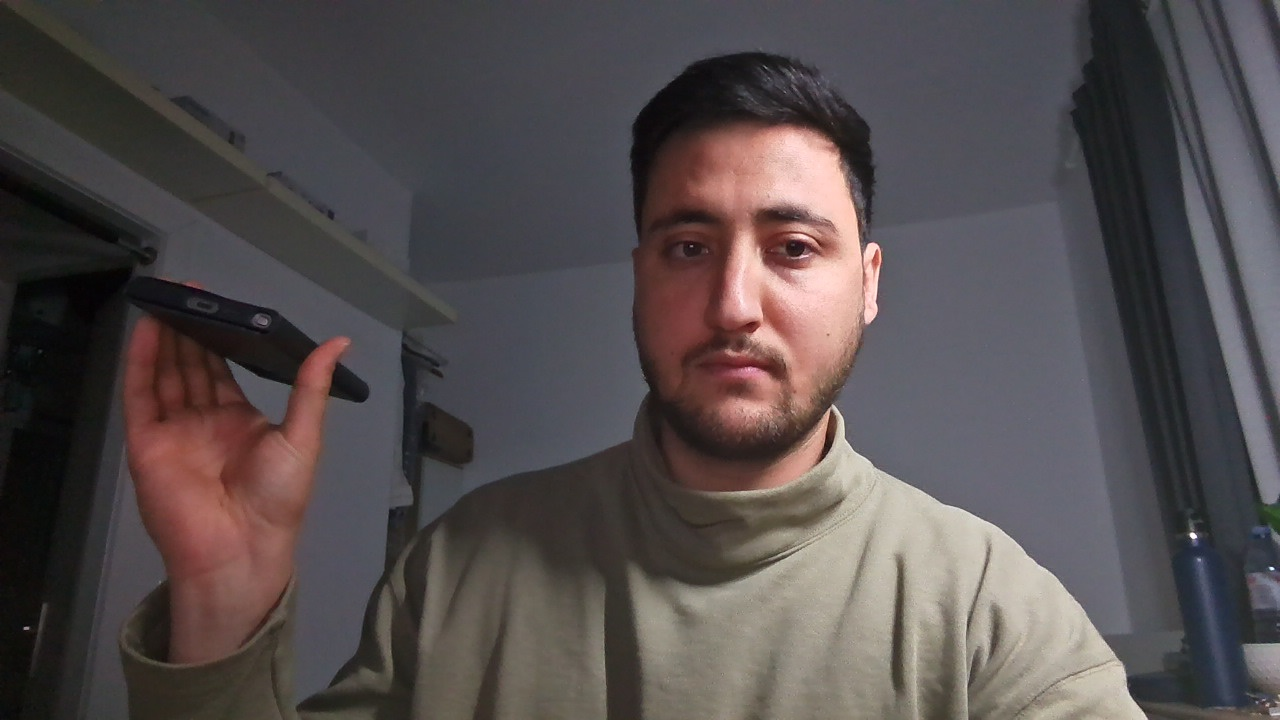Handy: (105, 260, 397, 413), (1145, 501, 1274, 717)
me: (591, 60, 897, 472)
